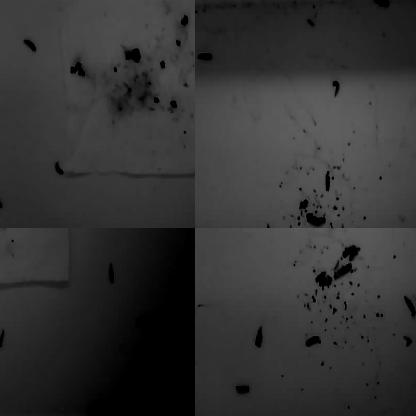PtecticusTenebrifer: (342, 243, 362, 260), (403, 294, 416, 318), (306, 212, 326, 226), (334, 264, 352, 279), (22, 36, 37, 53), (135, 314, 152, 329), (89, 403, 108, 416), (304, 335, 322, 347), (54, 159, 66, 176), (196, 51, 214, 62), (108, 261, 116, 285), (254, 324, 262, 348), (235, 384, 252, 394), (325, 170, 331, 194), (332, 80, 341, 95), (371, 0, 390, 7), (0, 194, 7, 211), (285, 228, 305, 233), (111, 228, 119, 239), (382, 228, 399, 233), (0, 328, 4, 349), (373, 228, 382, 237), (266, 222, 275, 228), (364, 228, 370, 236), (195, 228, 202, 234)
